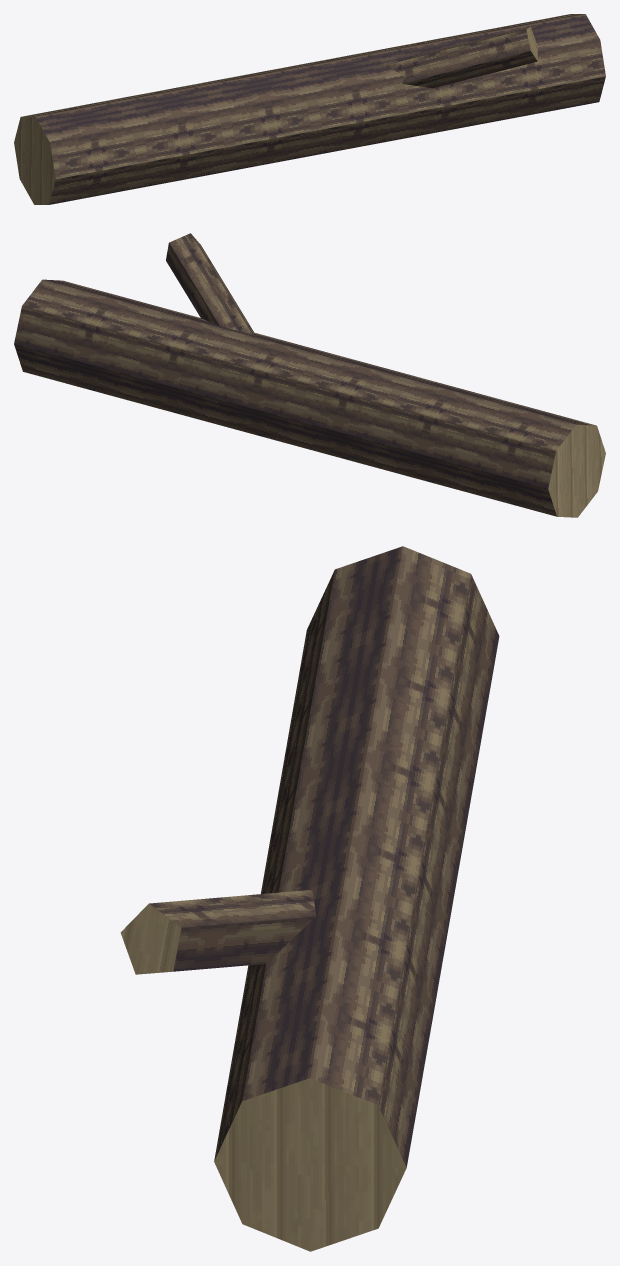
File: log_fallen.glb
The picture shows the model from 3 angles, top to bottom: view 1: azimuth 30°, elevation 25°; view 2: azimuth 150°, elevation 25°; view 3: azimuth 270°, elevation 25°; orthographic projection. The views are drawn at different scales.
Visible parts, largest first — view 1: log_fallen; view 2: log_fallen; view 3: log_fallen.
Boxes of the visible parts, x1,y1,x2,y2 form: log_fallen: (14,14,605,204); log_fallen: (14,233,605,517); log_fallen: (120,546,499,1251).
Bounding box in the file's own units: 3.19 × 0.7204 × 0.9807.
2 materials, 2 textured.
